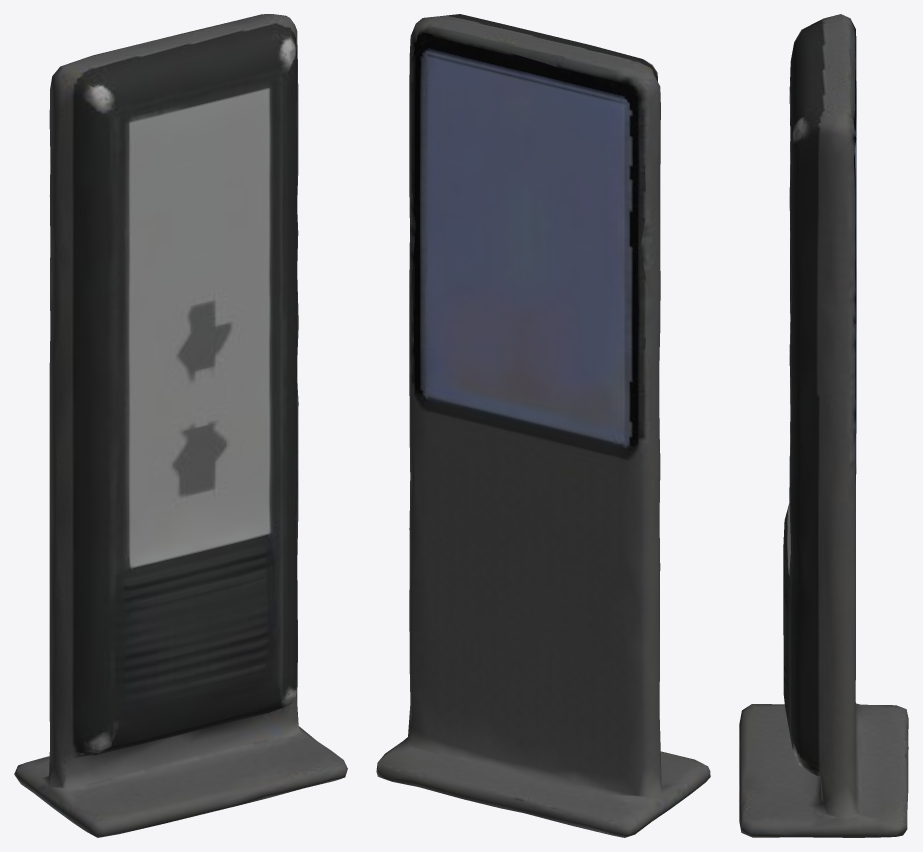
The model's file is signage_totem.glb.
3 renders of one model, left to right at view 1: azimuth 30°, elevation 25°; view 2: azimuth 150°, elevation 25°; view 3: azimuth 270°, elevation 25°, orthographic. The views are drawn at different scales.
Bounding box in the file's own units: 0.3744 × 1.01 × 0.2176.
1 material, 1 textured.
